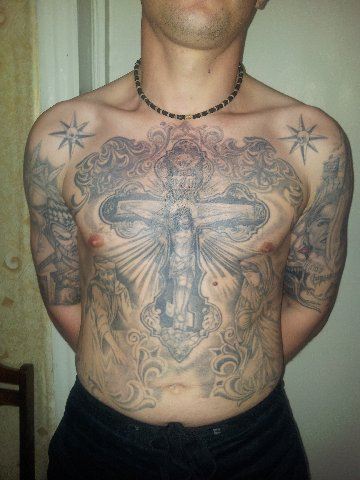tatu4_zvezda: (278, 122, 330, 160), (53, 121, 96, 156)
tatu9_krest: (119, 144, 257, 359)
